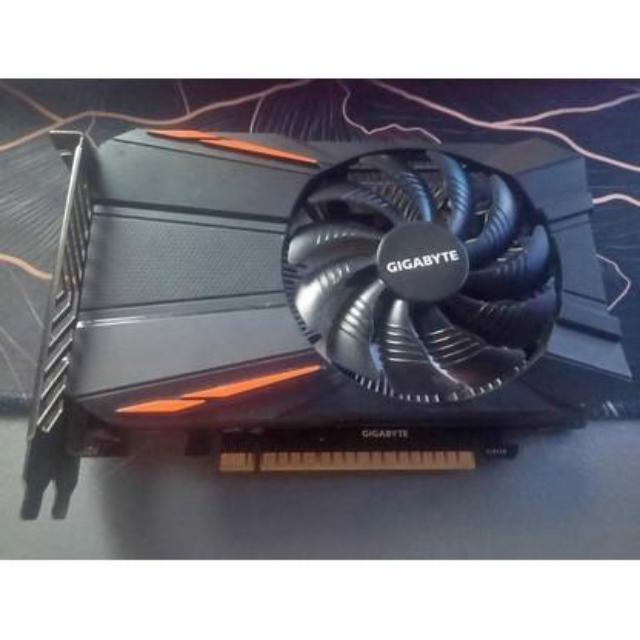GPU: (31, 124, 626, 482)
